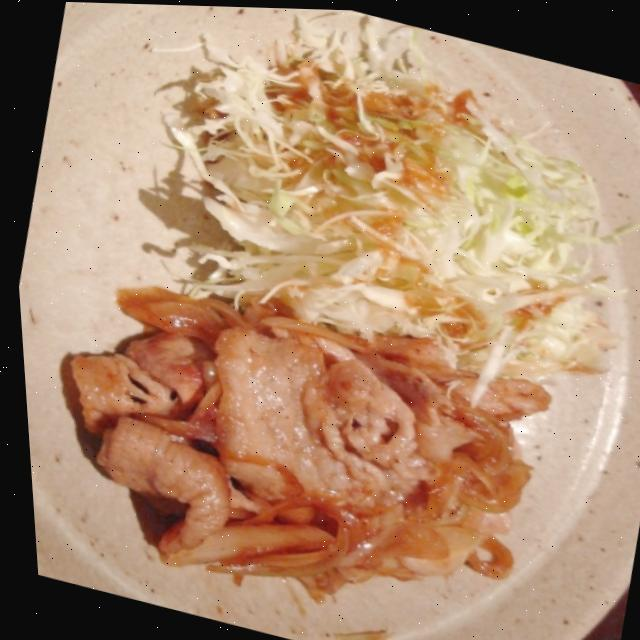猪肉菜式: (25, 231, 579, 640)
